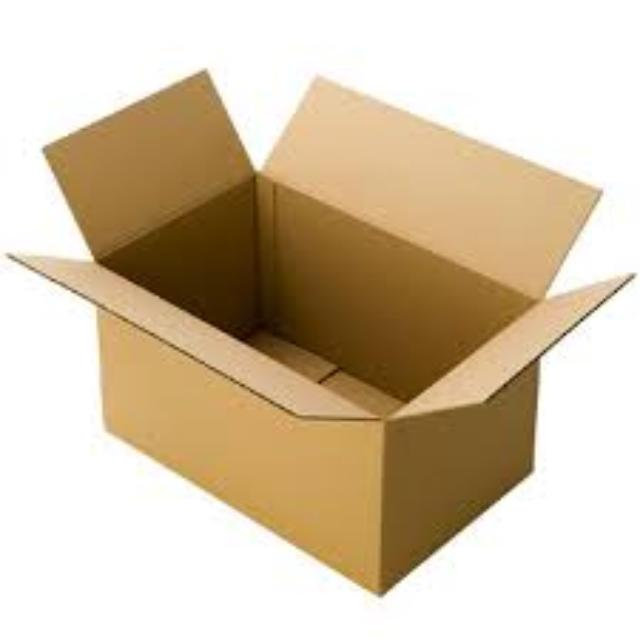cardboard paper: (11, 68, 623, 586)
